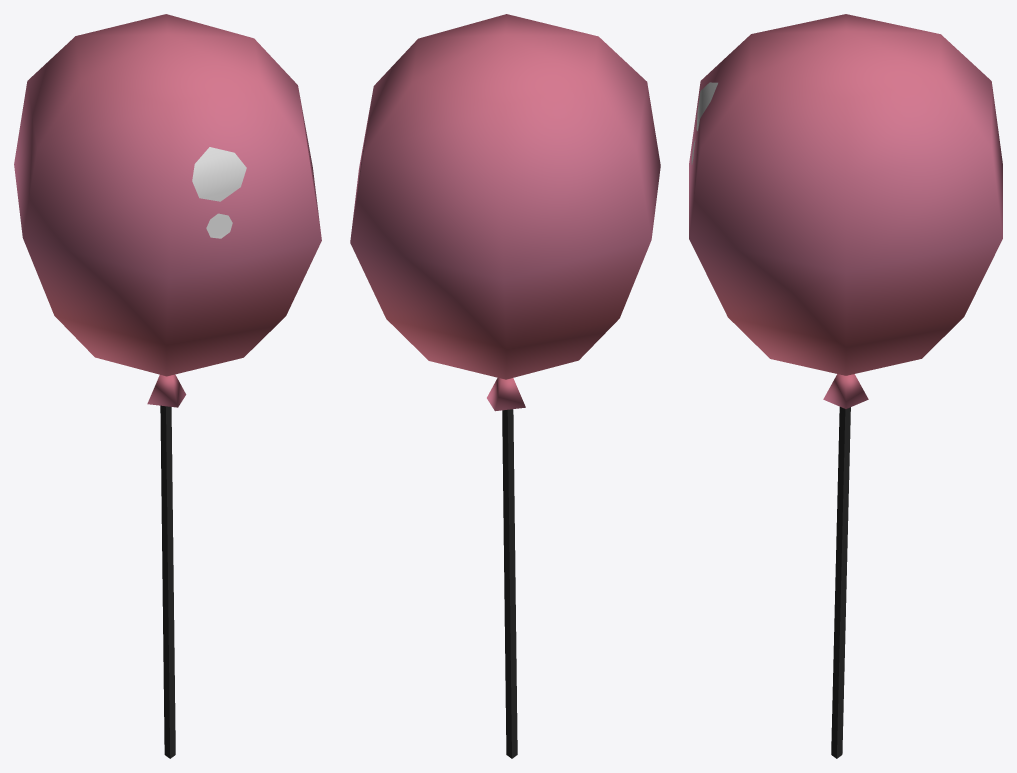
File: redBaloon.glb
The picture shows the model from 3 angles, left to right: view 1: azimuth 30°, elevation 25°; view 2: azimuth 150°, elevation 25°; view 3: azimuth 270°, elevation 25°; orthographic projection.
Parts seen in each view (by area): view 1: redBaloon; view 2: redBaloon; view 3: redBaloon.
Part boxes in pixels (x1,y1,x2,y2): redBaloon: [14, 14, 321, 758]; redBaloon: [350, 14, 660, 758]; redBaloon: [689, 14, 1002, 758].
Bounding box in the file's own units: 0.5473 × 1.29 × 0.5071.
